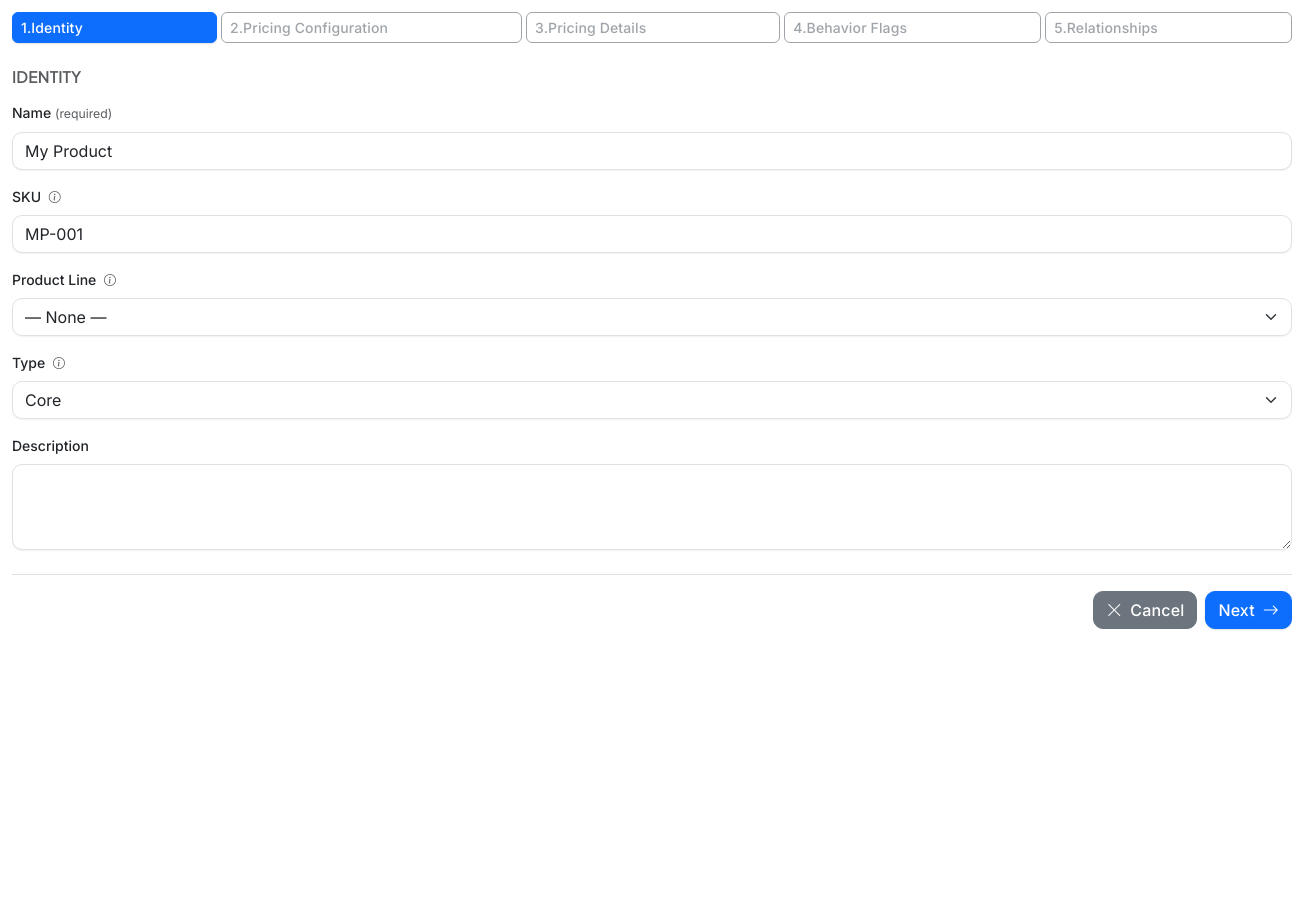
Test: ProductForm — add mode › shows Back button only from Step 2 onwards
This screenshot has width=1304, height=912.
expect the button "back" is not shown: met
Click the button "Next".
click(1249, 610)  # box [1205, 591, 1292, 629]
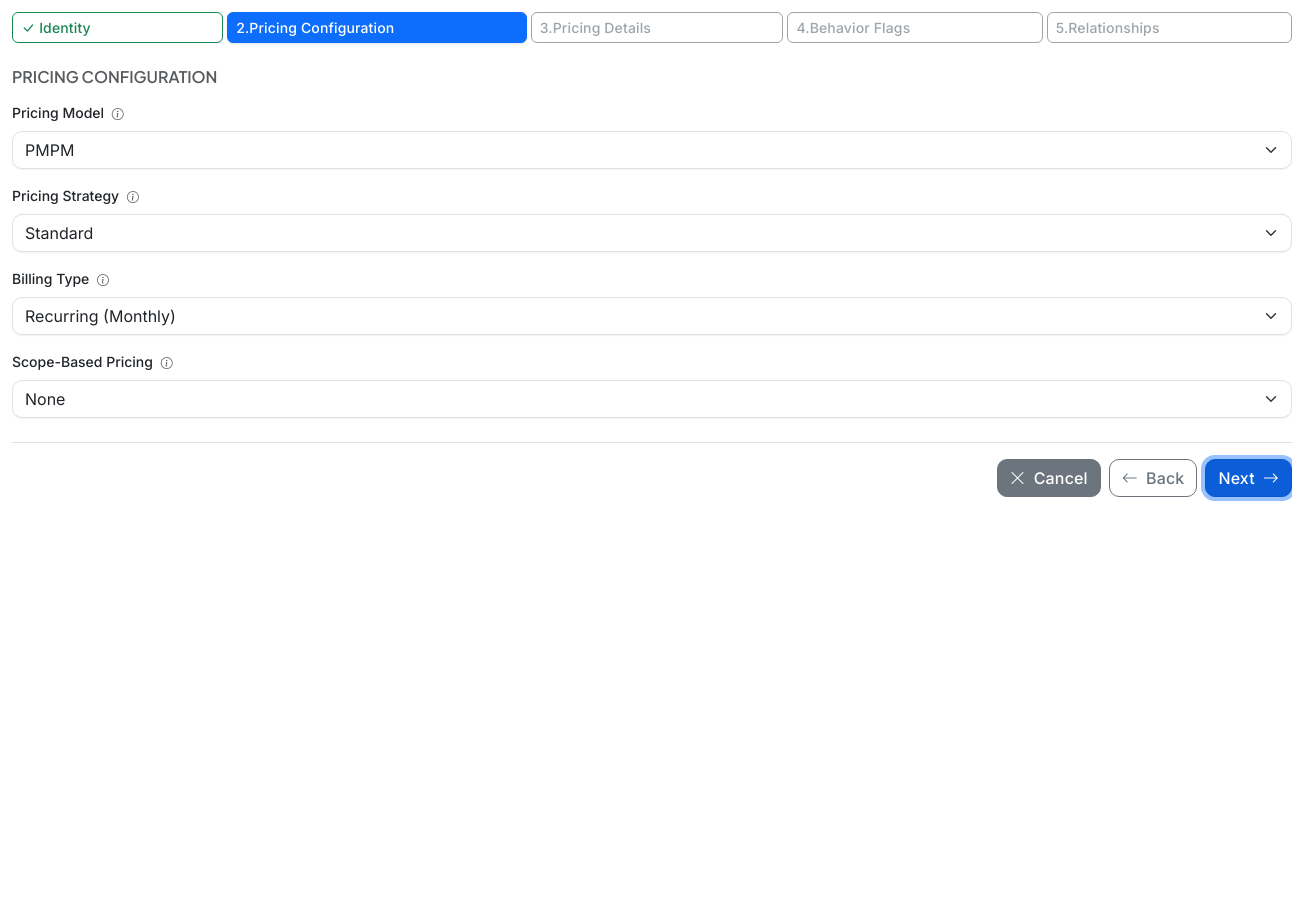
expect the button "Back" is shown: met, box [1109, 459, 1197, 497]
